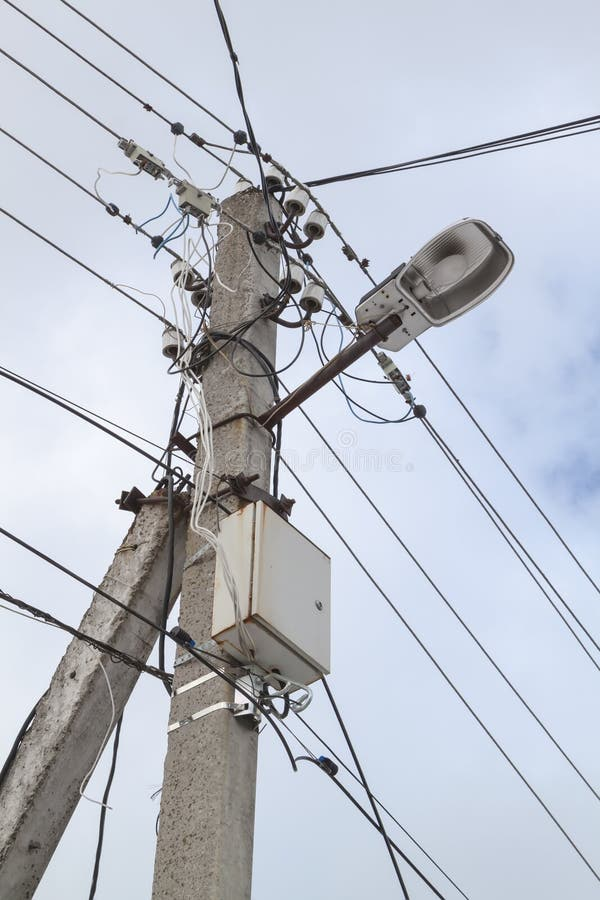light_pole: (117, 147, 314, 900)
